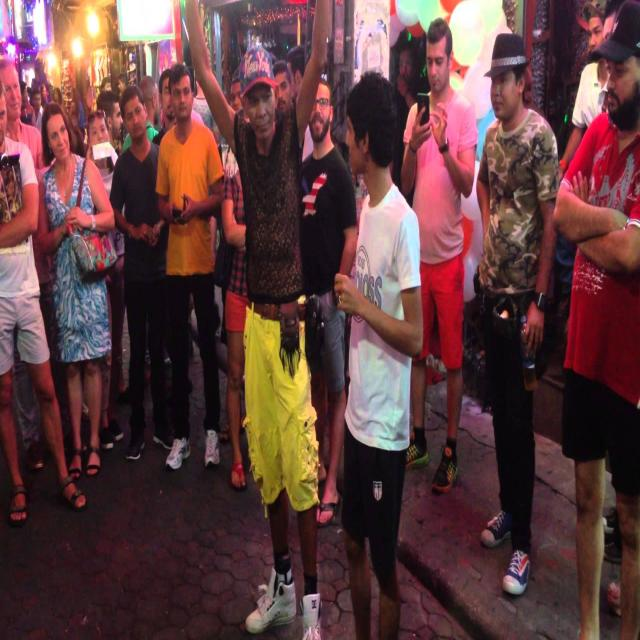body: (183, 0, 331, 640), (0, 38, 426, 174), (550, 0, 639, 639), (332, 68, 426, 640), (474, 31, 560, 599), (0, 76, 88, 519), (400, 16, 479, 496), (34, 102, 119, 486), (155, 62, 226, 472), (106, 84, 180, 462), (297, 79, 358, 530), (522, 0, 637, 223), (0, 59, 55, 474), (82, 110, 126, 397), (182, 173, 236, 367), (99, 175, 143, 406), (220, 146, 246, 493), (342, 175, 368, 409), (600, 495, 632, 626)
